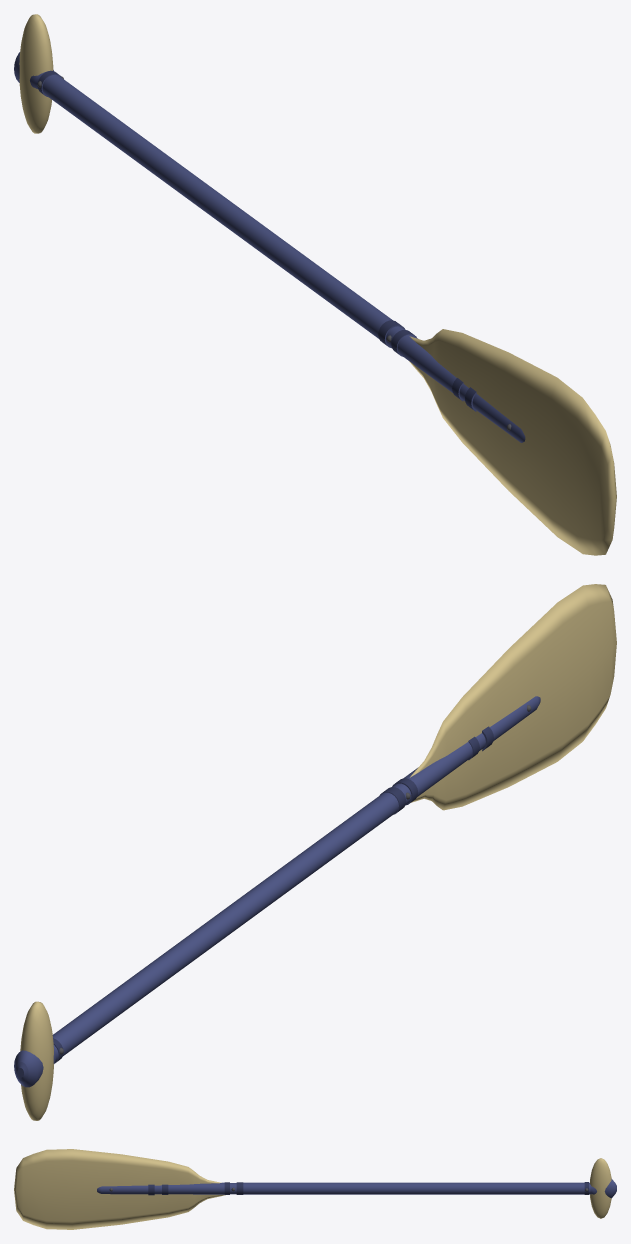
File: hallie_oar_yellow_NEW.fbx
The picture shows the model from 3 angles, top to bottom: view 1: azimuth 30°, elevation 25°; view 2: azimuth 150°, elevation 25°; view 3: azimuth 270°, elevation 25°; orthographic projection. The views are drawn at different scales.
Visible parts, largest first — view 1: oar_paddle, oar_body2; view 2: oar_paddle, oar_body2; view 3: oar_paddle, oar_body2.
Part boxes in pixels (x1,y1,x2,y2): oar_paddle: [409, 329, 616, 555]; oar_body2: [14, 14, 525, 442]; oar_paddle: [410, 584, 616, 810]; oar_body2: [14, 696, 540, 1120]; oar_paddle: [14, 1149, 225, 1229]; oar_body2: [97, 1158, 616, 1218].
Size of the model in its own units: 0.0494 by 0.2865 by 1.93.
